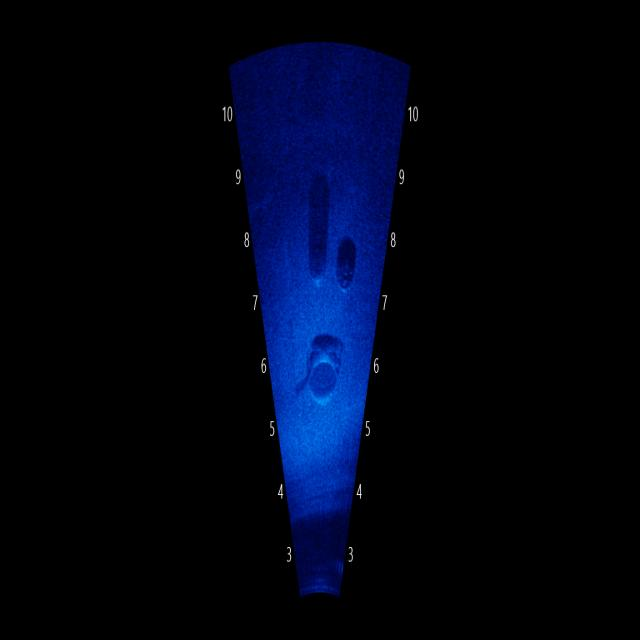circle: (301, 323, 346, 415), (330, 241, 369, 299), (300, 238, 337, 289)
